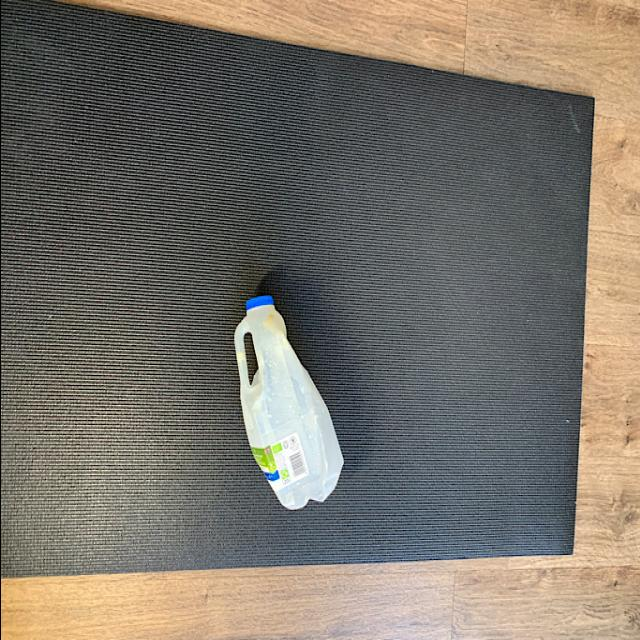litter: (227, 291, 345, 515)
